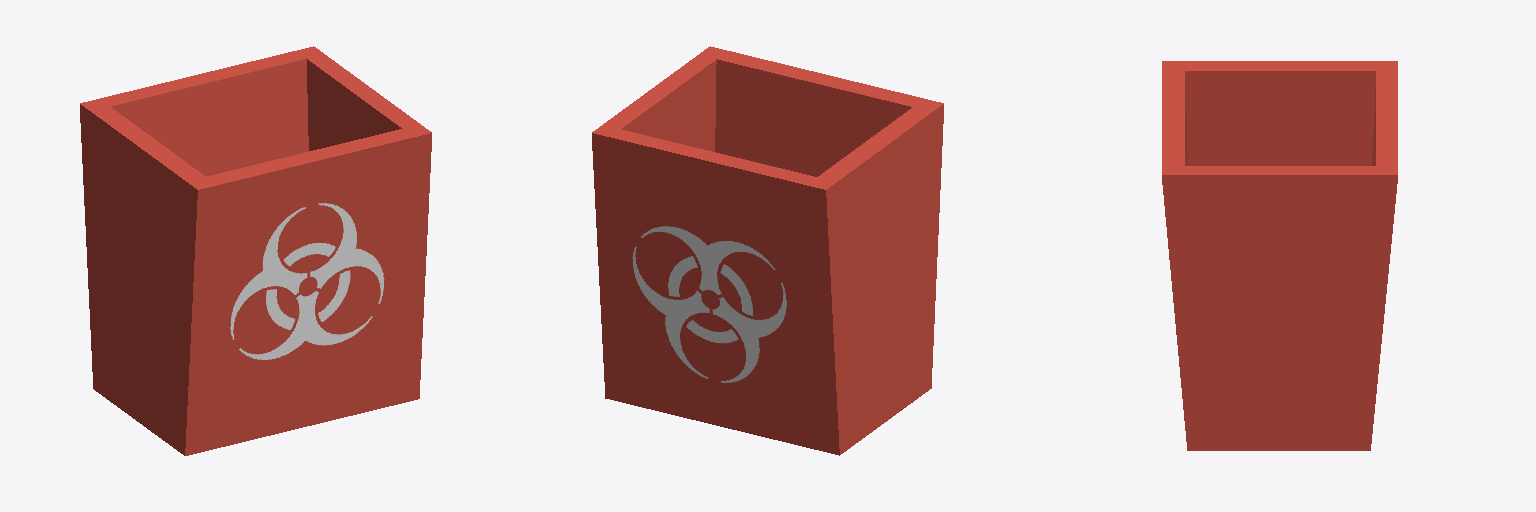
3 renders of one model, left to right at view 1: azimuth 30°, elevation 25°; view 2: azimuth 150°, elevation 25°; view 3: azimuth 270°, elevation 25°, orthographic.
Visible parts, largest first — view 1: Cube.010_Cube.003; view 2: Cube.010_Cube.003; view 3: Cube.010_Cube.003.
Part boxes in pixels (left/top/right/bottom): Cube.010_Cube.003: left=80, top=46, right=431, bottom=455; Cube.010_Cube.003: left=592, top=46, right=943, bottom=455; Cube.010_Cube.003: left=1162, top=61, right=1397, bottom=450.
Bounding box in the file's own units: 1.57 × 1.77 × 1.38.
1 materials, 1 textured.